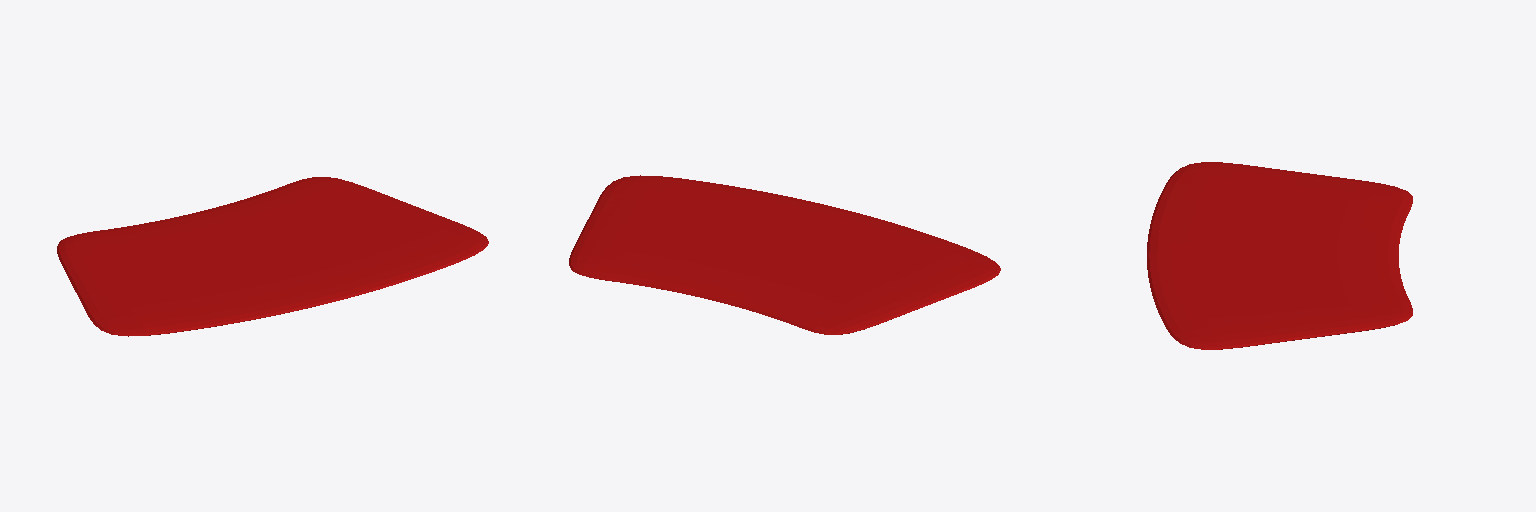
Rendered from terrain_panel_out_s.obj.
3 renders of one model, left to right at view 1: azimuth 30°, elevation 25°; view 2: azimuth 150°, elevation 25°; view 3: azimuth 270°, elevation 25°, orthographic.
Parts seen in each view (by area): view 1: terrain_panel_out_s; view 2: terrain_panel_out_s; view 3: terrain_panel_out_s.
Part boxes in pixels (bbox=[...]): terrain_panel_out_s: bbox=[57, 177, 488, 336]; terrain_panel_out_s: bbox=[569, 175, 1000, 334]; terrain_panel_out_s: bbox=[1147, 162, 1412, 349].
Size of the model in its own units: 129 by 2.5 by 77.51.